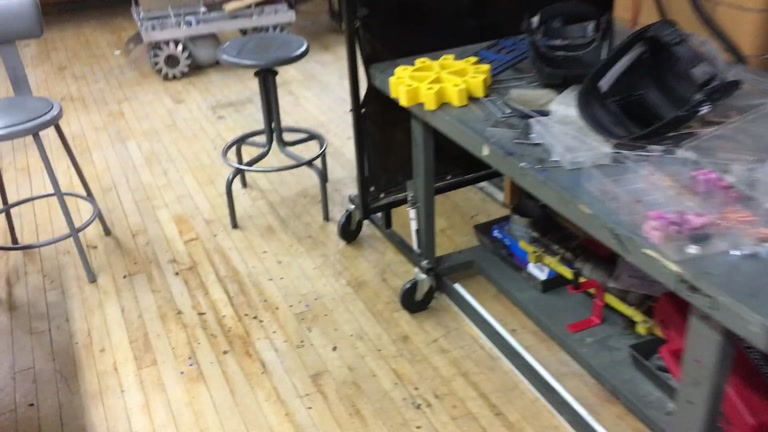gear: (387, 52, 493, 111)
